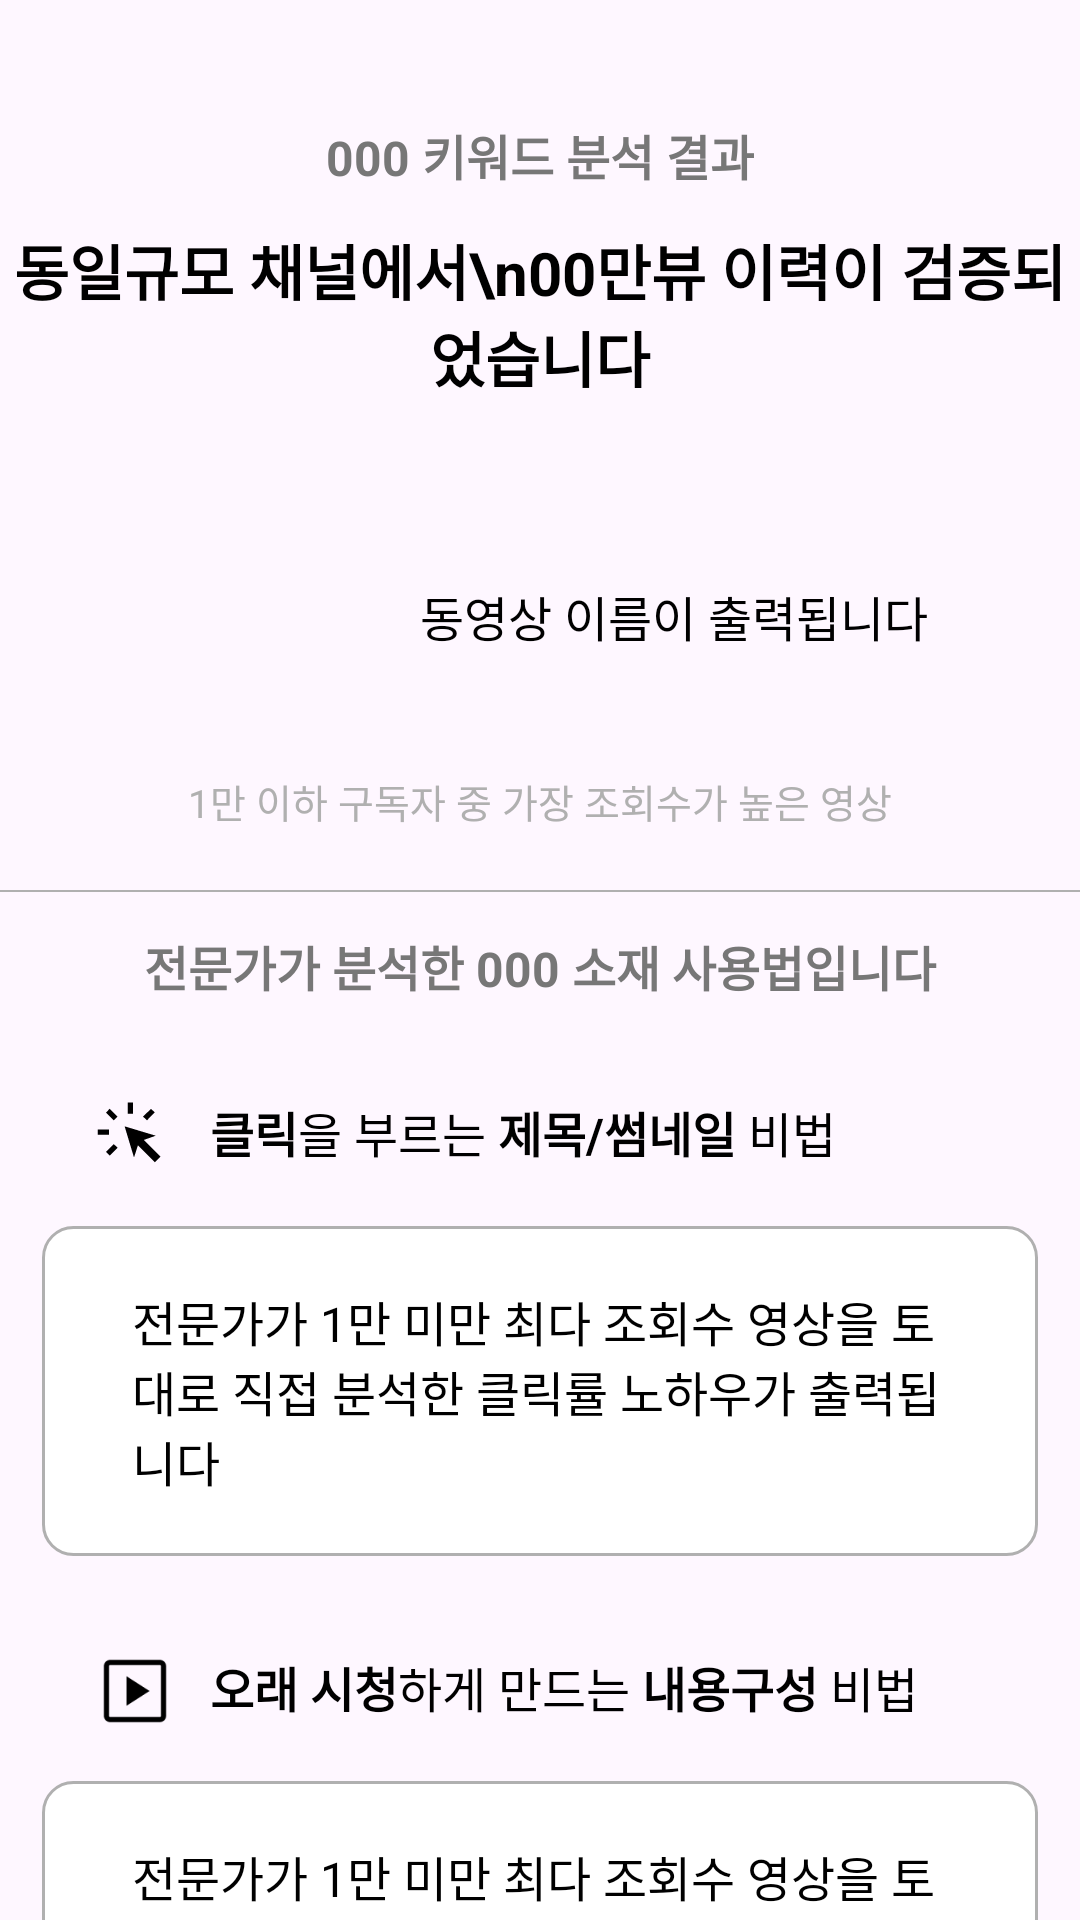

Locate icon controls on the screen. Image size 1080px x 1920px, boxes as BBox(x1, y1, x2, y2).
slideshow: BBox(103, 1659, 167, 1723)
web traffic: BBox(97, 1102, 161, 1162)
